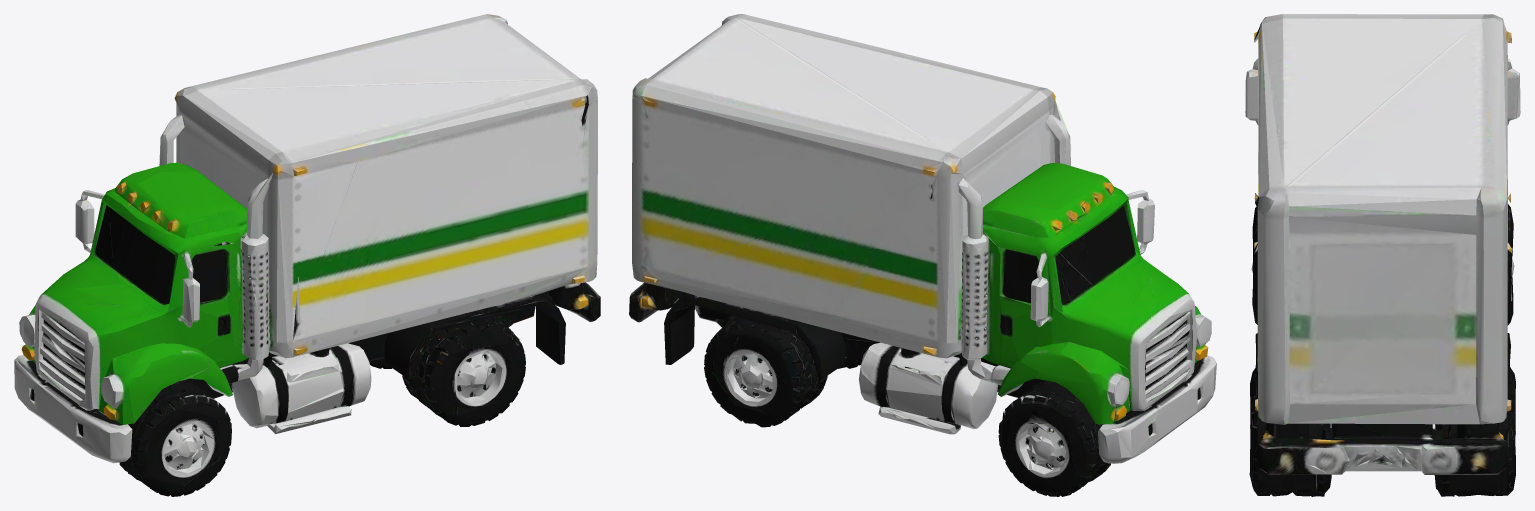
File: caminhao.glb
The picture shows the model from 3 angles, left to right: view 1: azimuth 30°, elevation 25°; view 2: azimuth 150°, elevation 25°; view 3: azimuth 270°, elevation 25°; orthographic projection. The views are drawn at different scales.
Visible parts, largest first — view 1: output_unwrapped; view 2: output_unwrapped; view 3: output_unwrapped.
Part boxes in pixels (box(x1,y1,x2,y2)): output_unwrapped: box(14, 14, 600, 496); output_unwrapped: box(629, 14, 1216, 496); output_unwrapped: box(1245, 14, 1520, 496).
Bounding box in the file's own units: 1.9 × 1.13 × 0.7712.
Materials: 1 (1 with a texture image).
